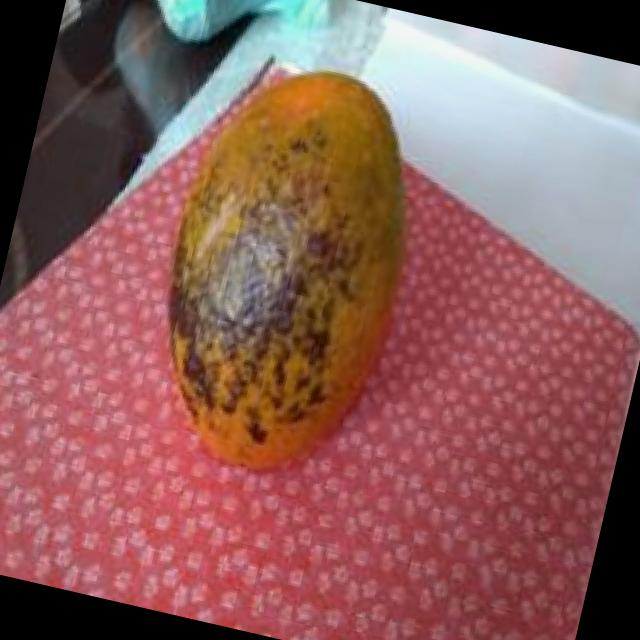Rotten_Orange: (118, 32, 462, 498)
